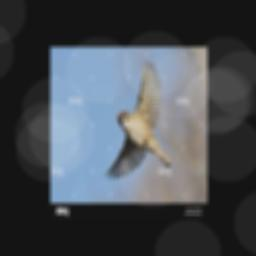Sparrow: (103, 59, 171, 179)
